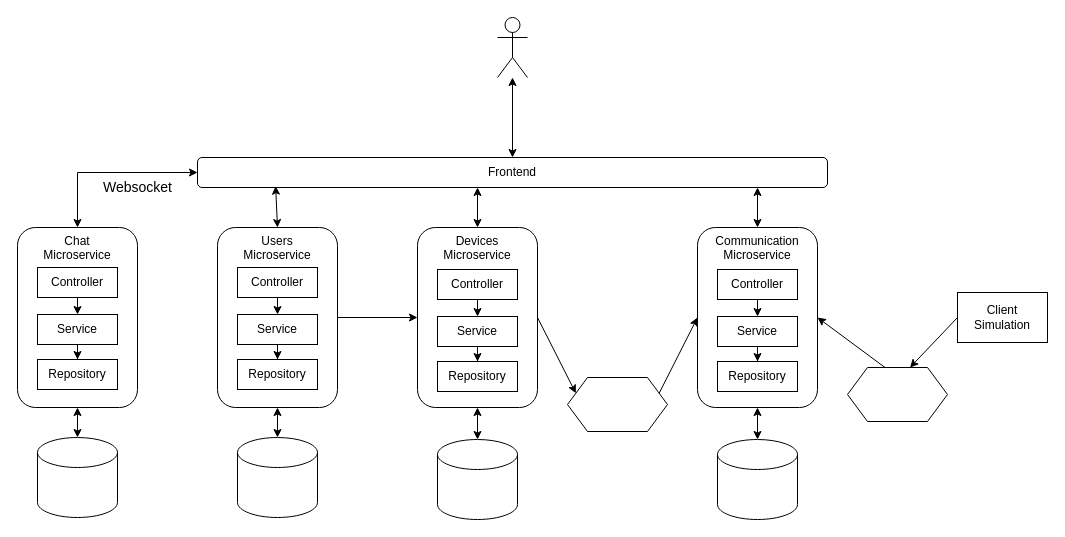
Some shapes in this 1065 by 537 pixel diagram are drawn without their labels. The shapes that lost their labels are listed below. From the top down, each one's centre as x and y in pixels, then its label:
At (x=512, y=47): "User".
At (x=617, y=404): "Device Sync MQ".
At (x=897, y=394): "Energy Data MQ".
At (x=77, y=477): "Chat DB".
At (x=277, y=477): "Users DB".
At (x=477, y=479): "Devices DB".
At (x=757, y=479): "Communication DB".
